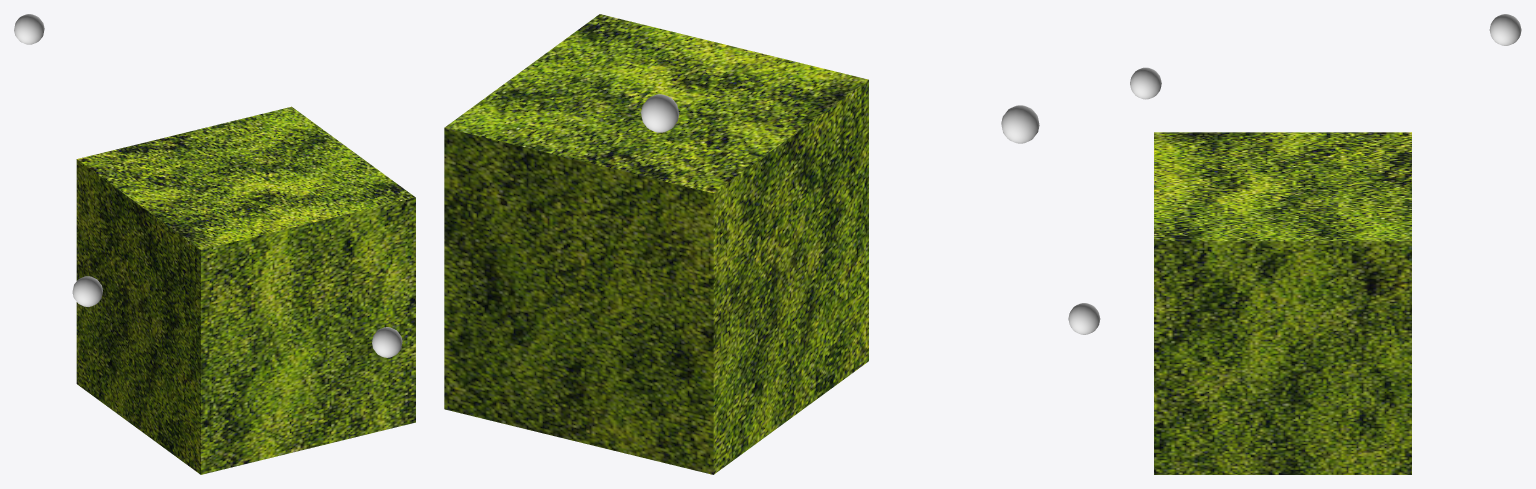
3 views of the same model, side by side, from view 1: azimuth 30°, elevation 25°; view 2: azimuth 150°, elevation 25°; view 3: azimuth 270°, elevation 25° (orthographic). The views are drawn at different scales.
Visible parts, largest first — view 1: Cube, Sphere.001, Sphere, Sphere.002; view 2: Cube, Sphere.001, Sphere; view 3: Cube, Sphere.001, Sphere.002, Sphere.
Boxes of the visible parts, x1=… form: Cube: x1=76, y1=106, x2=415, y2=474; Sphere.001: x1=72, y1=276, x2=102, y2=306; Sphere: x1=14, y1=14, x2=44, y2=44; Sphere.002: x1=372, y1=327, x2=402, y2=357; Cube: x1=444, y1=14, x2=868, y2=474; Sphere.001: x1=1001, y1=105, x2=1039, y2=143; Sphere: x1=641, y1=94, x2=679, y2=132; Cube: x1=1154, y1=132, x2=1411, y2=474; Sphere.001: x1=1130, y1=67, x2=1161, y2=99; Sphere.002: x1=1068, y1=303, x2=1100, y2=334; Sphere: x1=1489, y1=14, x2=1521, y2=45.
Size of what is drawn, in the model's own units: 3.21 by 2.99 by 3.52.
Materials: 1 (1 with a texture image).
